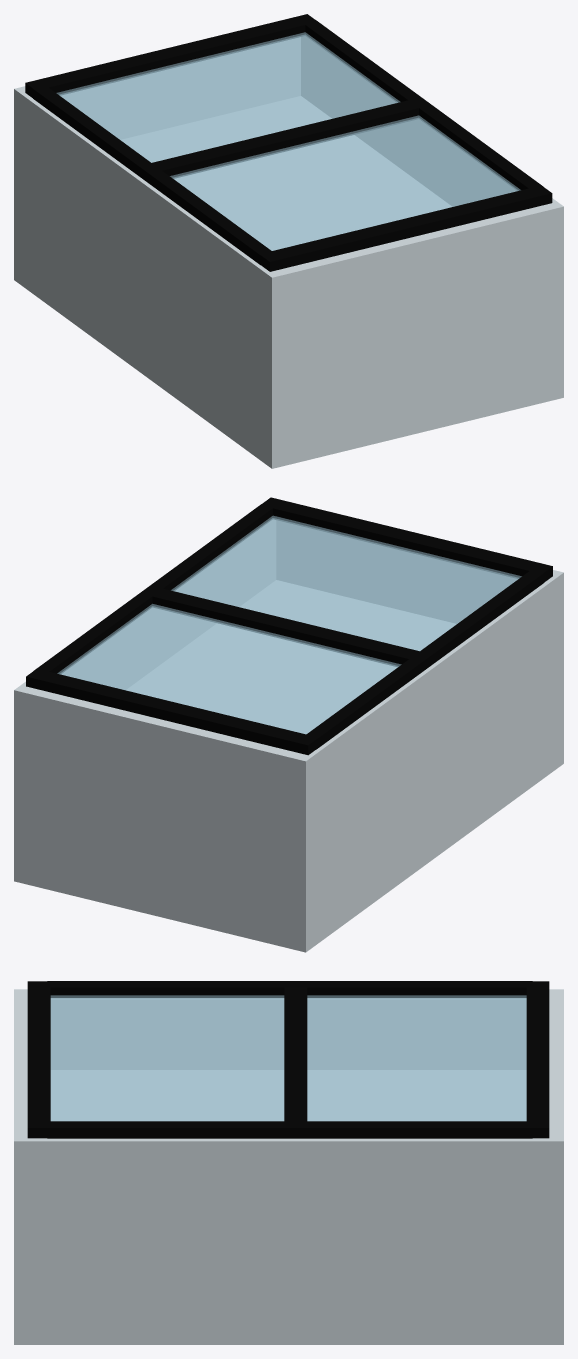
Rendered from Horizontal Fridge.fbx.
The picture shows the model from 3 angles, top to bottom: view 1: azimuth 30°, elevation 25°; view 2: azimuth 150°, elevation 25°; view 3: azimuth 270°, elevation 25°; orthographic projection. The views are drawn at different scales.
Parts seen in each view (by area): view 1: base_minifridge, vitre, pCube20, pCube19, pCube18, pCube22, pCube21; view 2: base_minifridge, vitre, pCube19, pCube20, pCube18, pCube22, pCube21; view 3: base_minifridge, vitre, pCube21, pCube22, pCube20, pCube19, pCube18.
Boxes of the visible parts, <box> form: base_minifridge: <box>14,36,563,468</box>; vitre: <box>56,32,520,250</box>; pCube20: <box>259,185,552,271</box>; pCube19: <box>25,14,317,97</box>; pCube18: <box>139,97,431,178</box>; pCube22: <box>33,86,271,264</box>; pCube21: <box>304,20,542,190</box>; base_minifridge: <box>14,520,563,952</box>; vitre: <box>57,515,521,734</box>; pCube19: <box>26,669,318,755</box>; pCube20: <box>260,497,552,582</box>; pCube18: <box>140,585,431,666</box>; pCube22: <box>304,570,544,749</box>; pCube21: <box>34,504,272,673</box>; base_minifridge: <box>14,989,563,1344</box>; vitre: <box>50,995,526,1121</box>; pCube21: <box>47,1121,532,1138</box>; pCube22: <box>47,981,532,997</box>; pCube20: <box>27,981,50,1138</box>; pCube19: <box>526,981,549,1138</box>; pCube18: <box>284,981,307,1127</box>.
Bounding box in the file's own units: 1.35 × 0.89 × 2.07.
